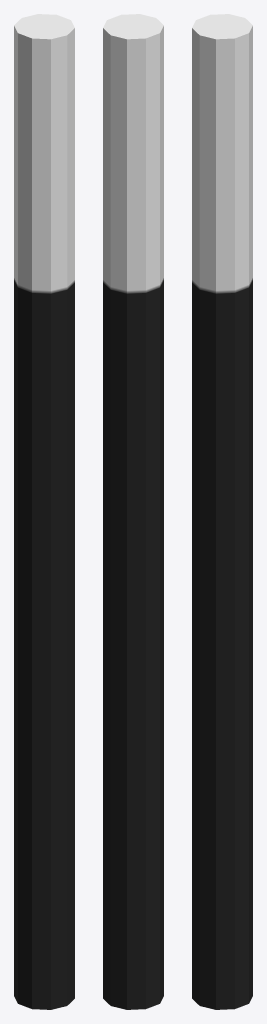
The model's file is magicWand.fbx.
3 renders of one model, left to right at view 1: azimuth 30°, elevation 25°; view 2: azimuth 150°, elevation 25°; view 3: azimuth 330°, elevation 25°, orthographic.
Visible parts, largest first — view 1: magicwand; view 2: magicwand; view 3: magicwand.
Boxes of the visible parts, x1,y1,x2,y2 form: magicwand: [14, 14, 74, 1009]; magicwand: [103, 14, 163, 1009]; magicwand: [192, 14, 252, 1009].
Size of the model in its own units: 0.1606 by 2.81 by 0.1528.
Materials: 1 (1 with a texture image).
